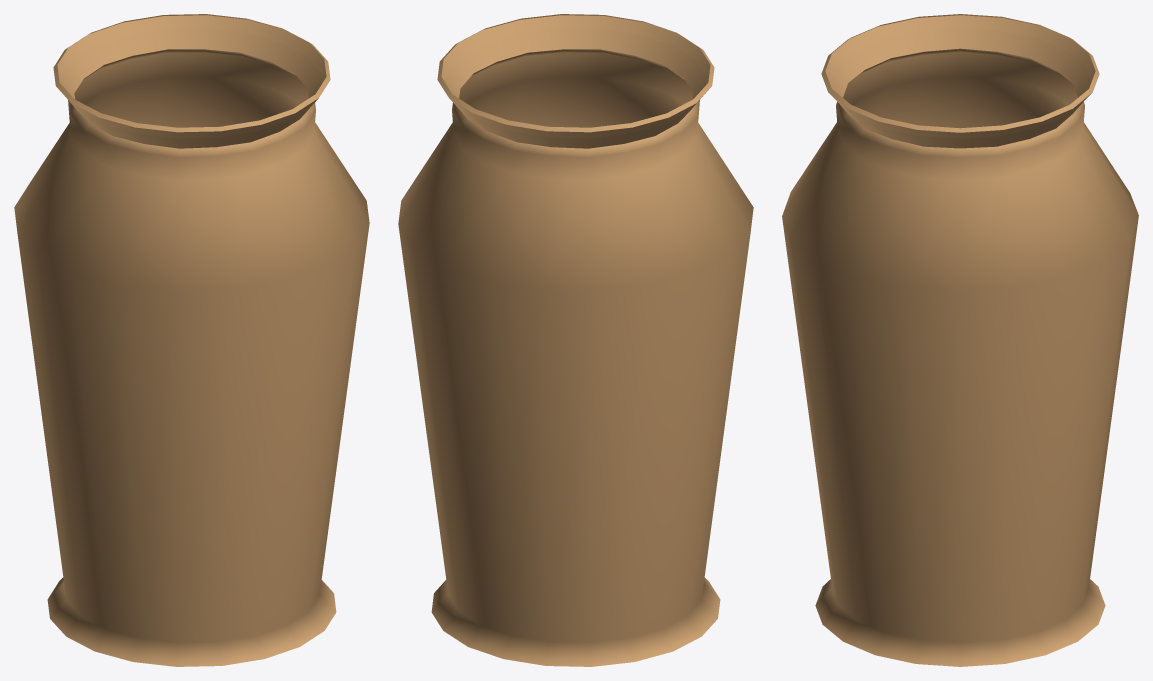
File: pottery02.fbx
The picture shows the model from 3 angles, left to right: view 1: azimuth 30°, elevation 25°; view 2: azimuth 150°, elevation 25°; view 3: azimuth 270°, elevation 25°; orthographic projection.
Parts seen in each view (by area): view 1: pCylinder4; view 2: pCylinder4; view 3: pCylinder4.
Boxes of the visible parts, box(x1,y1,x2,y2) form: pCylinder4: box(14, 14, 369, 666); pCylinder4: box(398, 14, 753, 666); pCylinder4: box(782, 14, 1138, 666).
Size of the model in its own units: 1.98 by 3.28 by 1.98.
